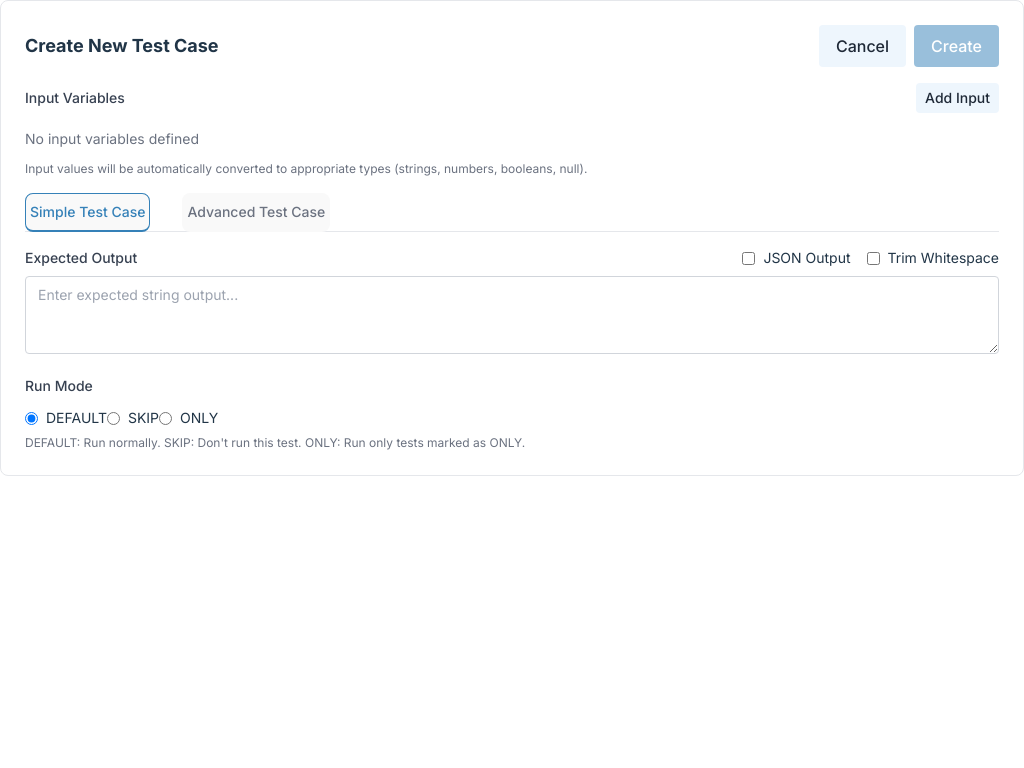
TestCaseEditor › toggles JSON output mode
Check: the text box with placeholder "Enter expected string output..." is shown, box [25, 276, 999, 354]
Click the checkbox labelled "JSON Output".
click(749, 258)  # box [742, 252, 755, 264]
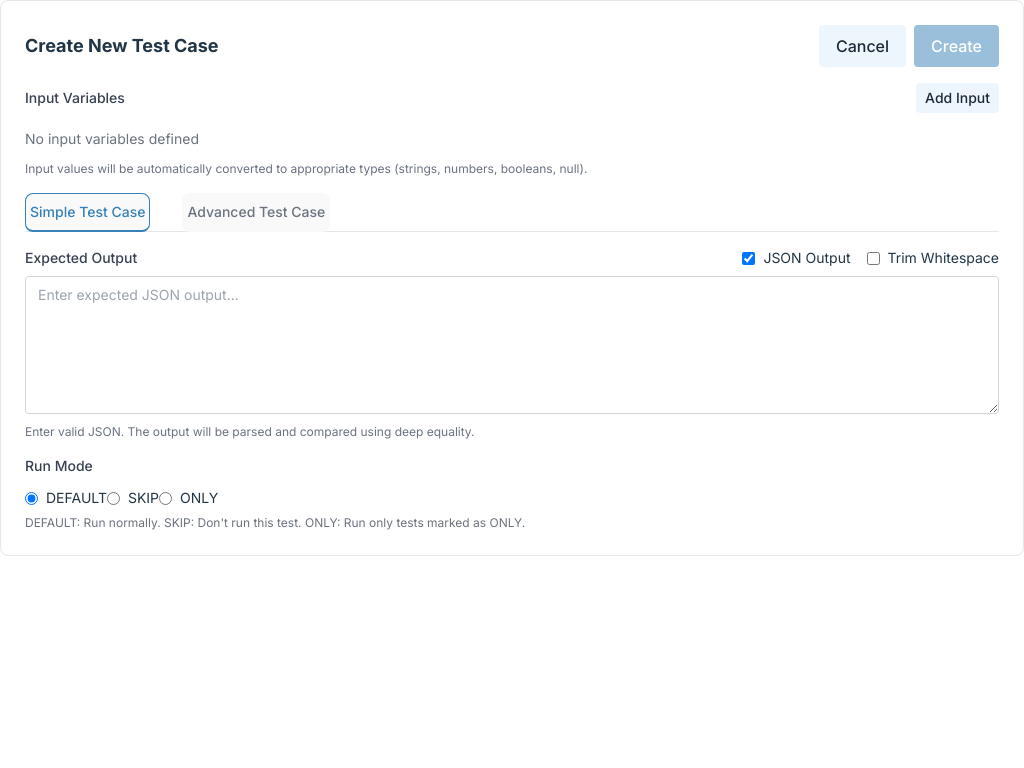
Check: the checkbox labelled "JSON Output" is checked, box [742, 252, 755, 264]
Check: the text box with placeholder "Enter expected JSON output..." is shown, box [25, 276, 999, 414]
